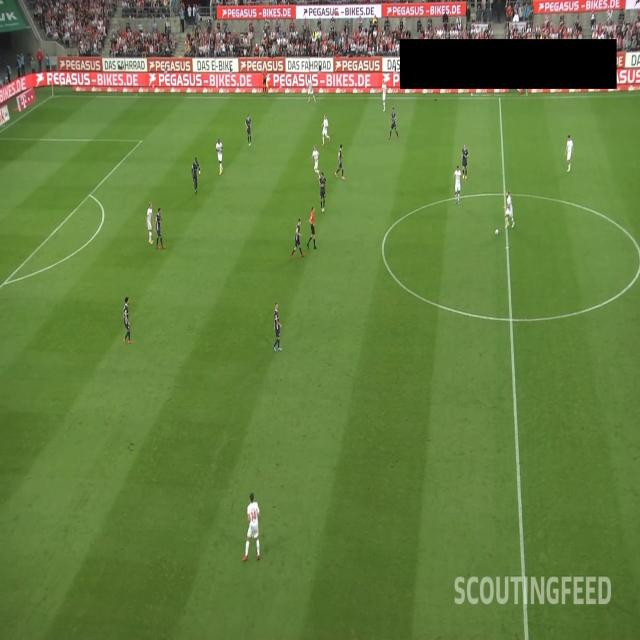ball: (495, 228, 499, 236)
